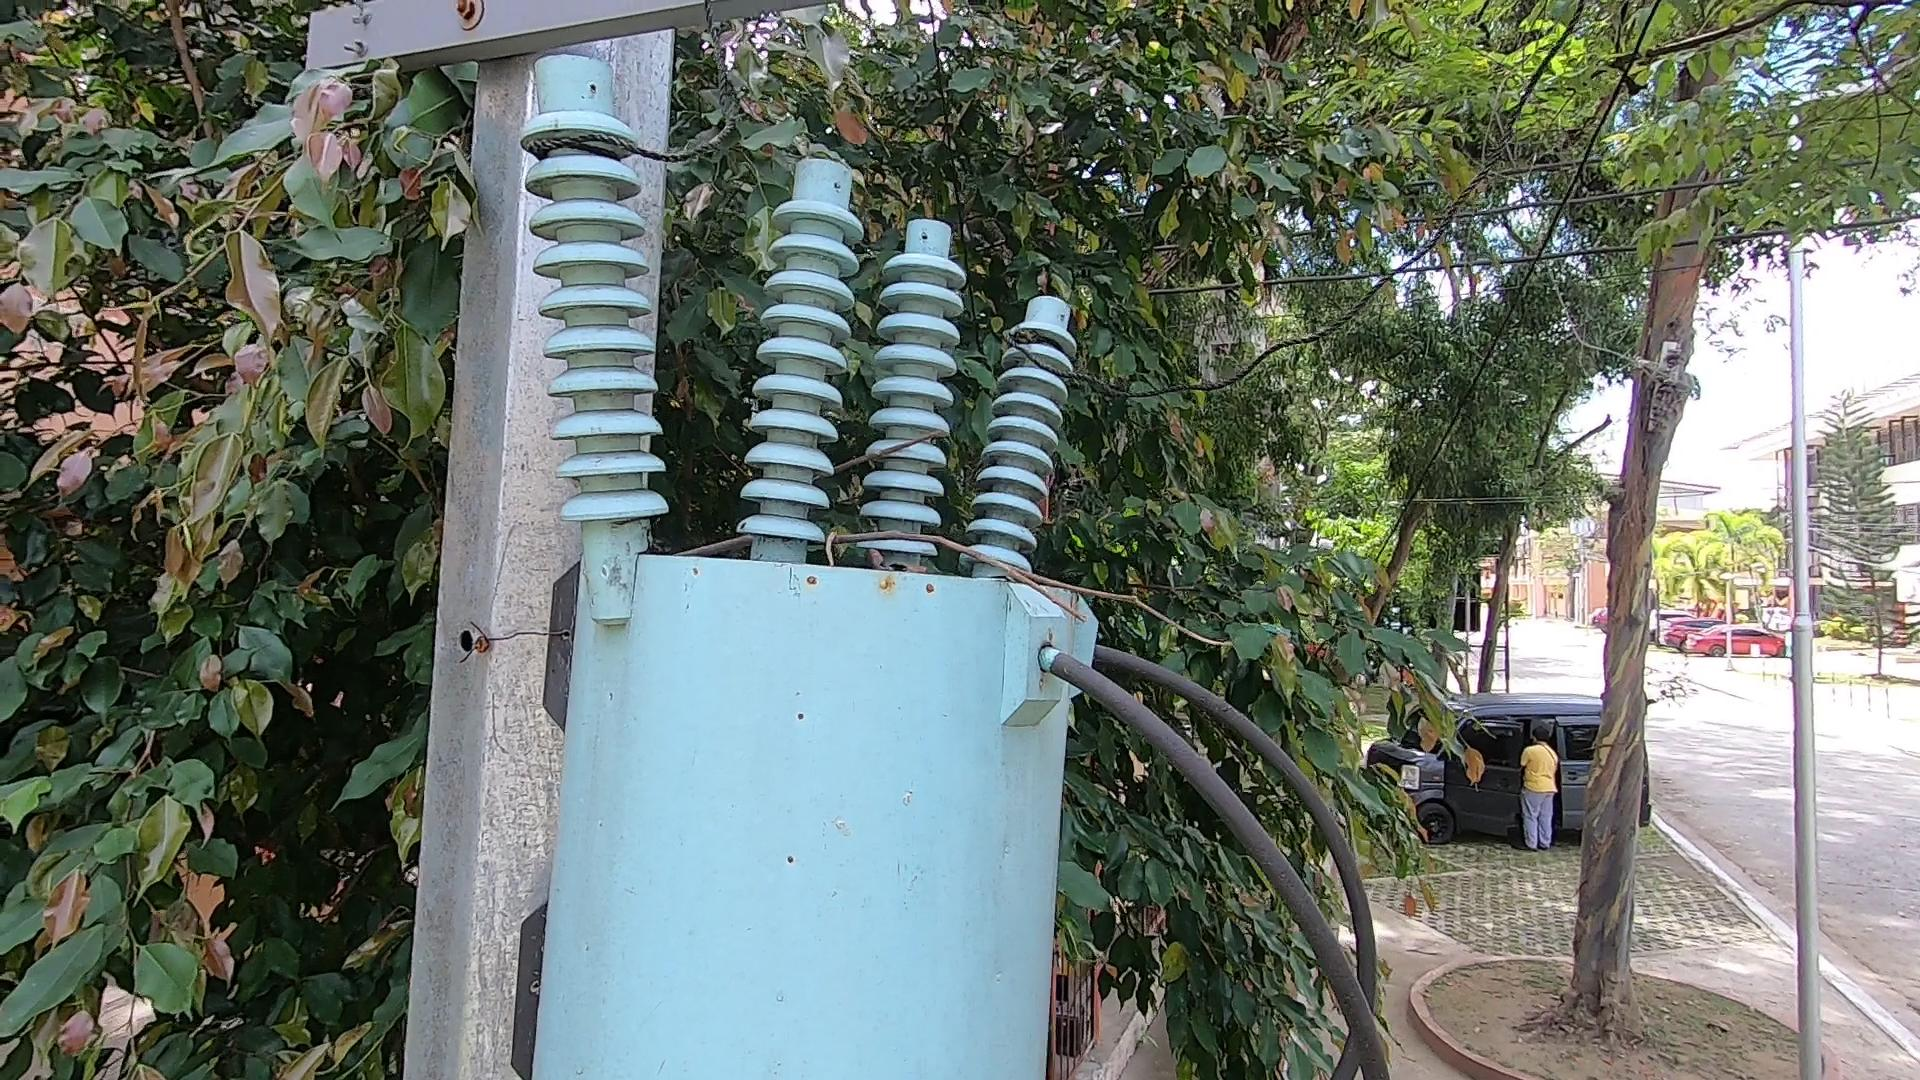leaf: (845, 546, 949, 582)
tree branch: (603, 434, 1251, 659)
